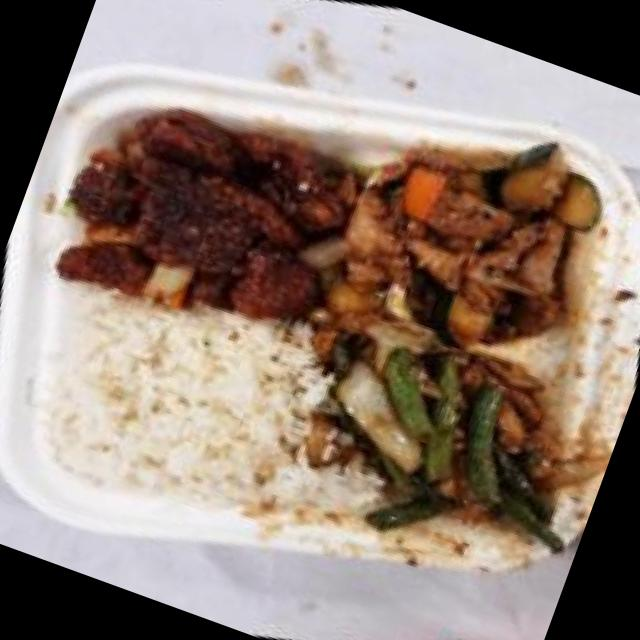Beijing Beef: (9, 31, 394, 384)
Kung Pao Chicken: (270, 60, 640, 421)
String Bean Chicken Breast: (275, 286, 624, 606)
White Steamed Rice: (2, 245, 352, 566)
